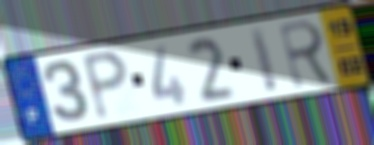2: (185, 35, 238, 105)
3: (41, 59, 92, 125)
4: (148, 42, 189, 107)
I: (247, 24, 281, 96)
P: (79, 48, 131, 124)
R: (276, 17, 338, 91)
